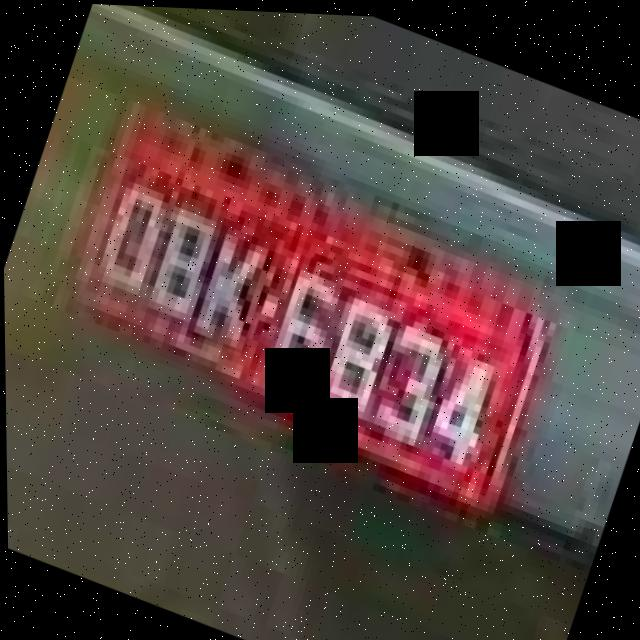3: (363, 299, 459, 447)
4: (417, 330, 511, 471)
6: (260, 249, 354, 395)
8: (312, 278, 405, 419)
B: (137, 188, 229, 328)
K: (183, 207, 284, 354)
O: (79, 163, 178, 316)
